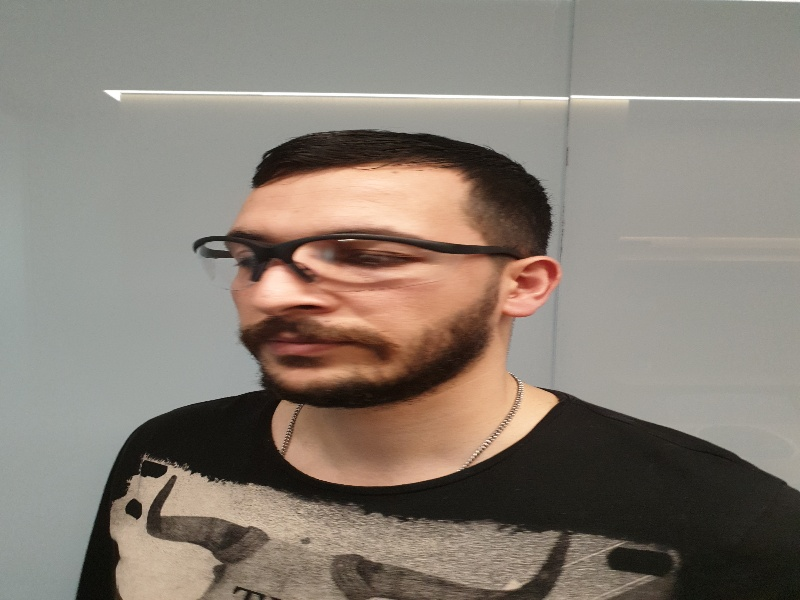Gozluk: (194, 231, 535, 292)
